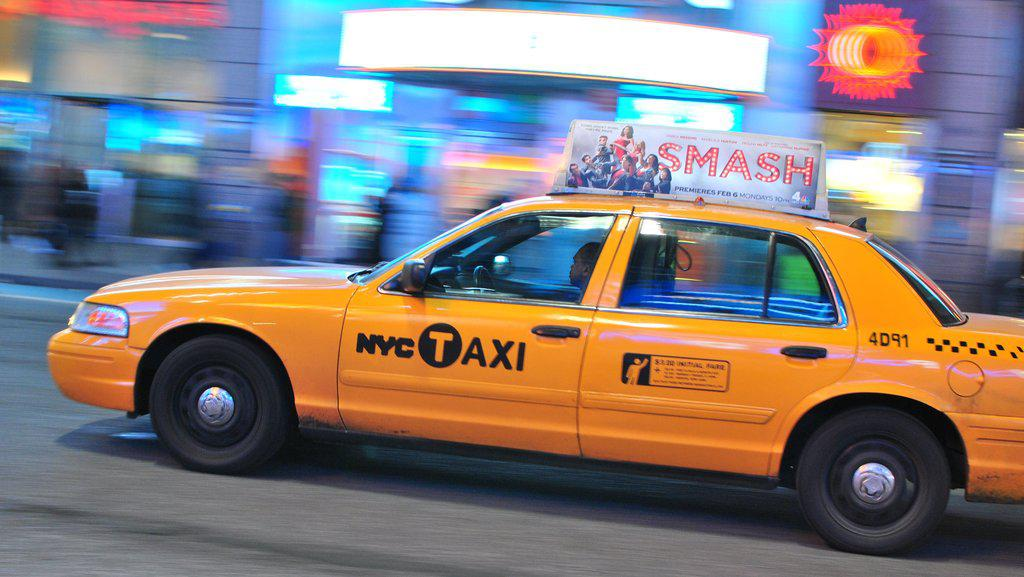taxi: (47, 195, 1024, 557)
